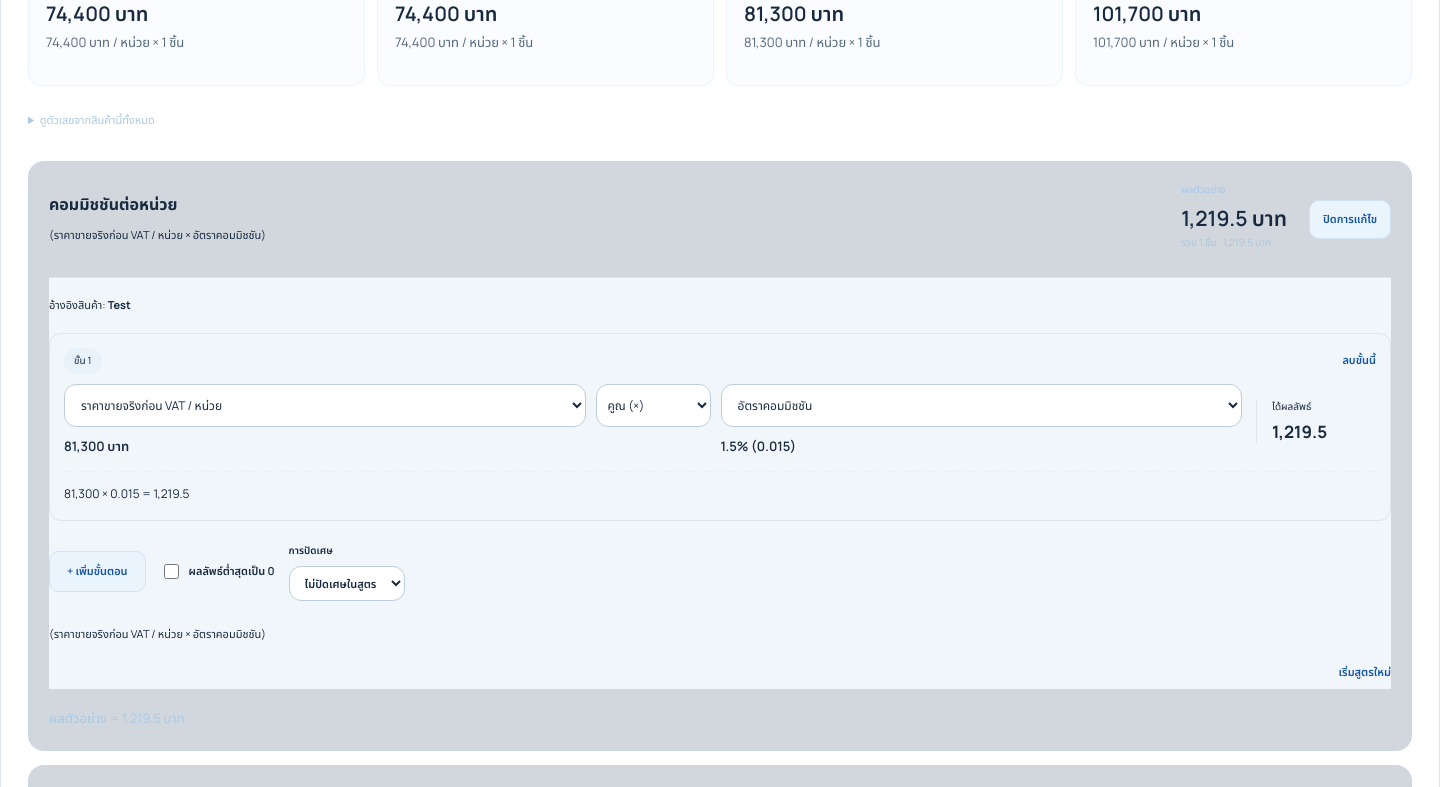
Scenario: operators and literal values are selectable and divide by zero blocks saving
(page scrolled)
Select "หาร (÷)" in the dropdown with test id "node-commission_amount-root-operation" at (653, 405), box [596,384,710,427]
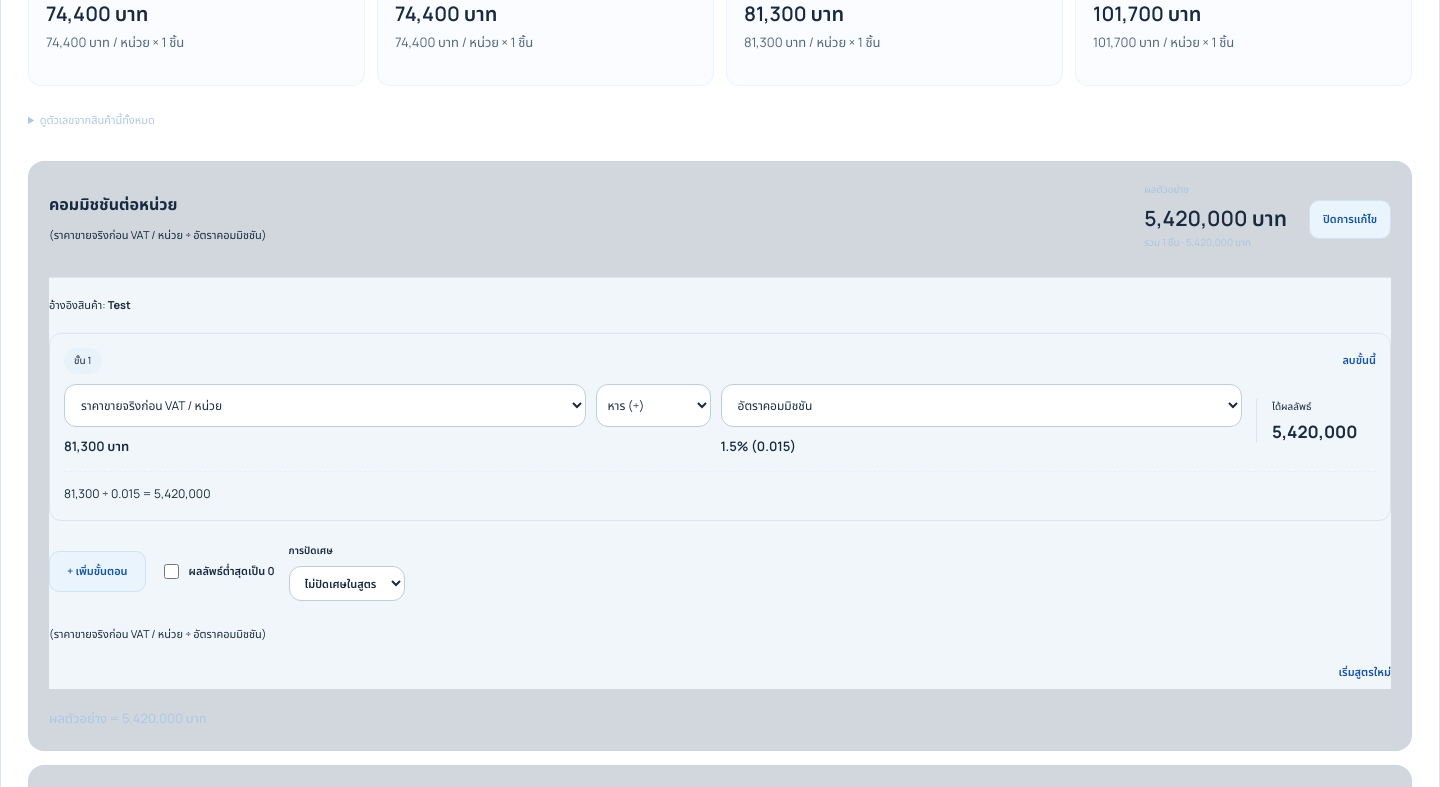
Select "ตัวเลขที่กำหนดเอง" in the dropdown with test id "node-commission_amount-root-1-source" at (981, 405), box [720,384,1242,427]
(page scrolled)
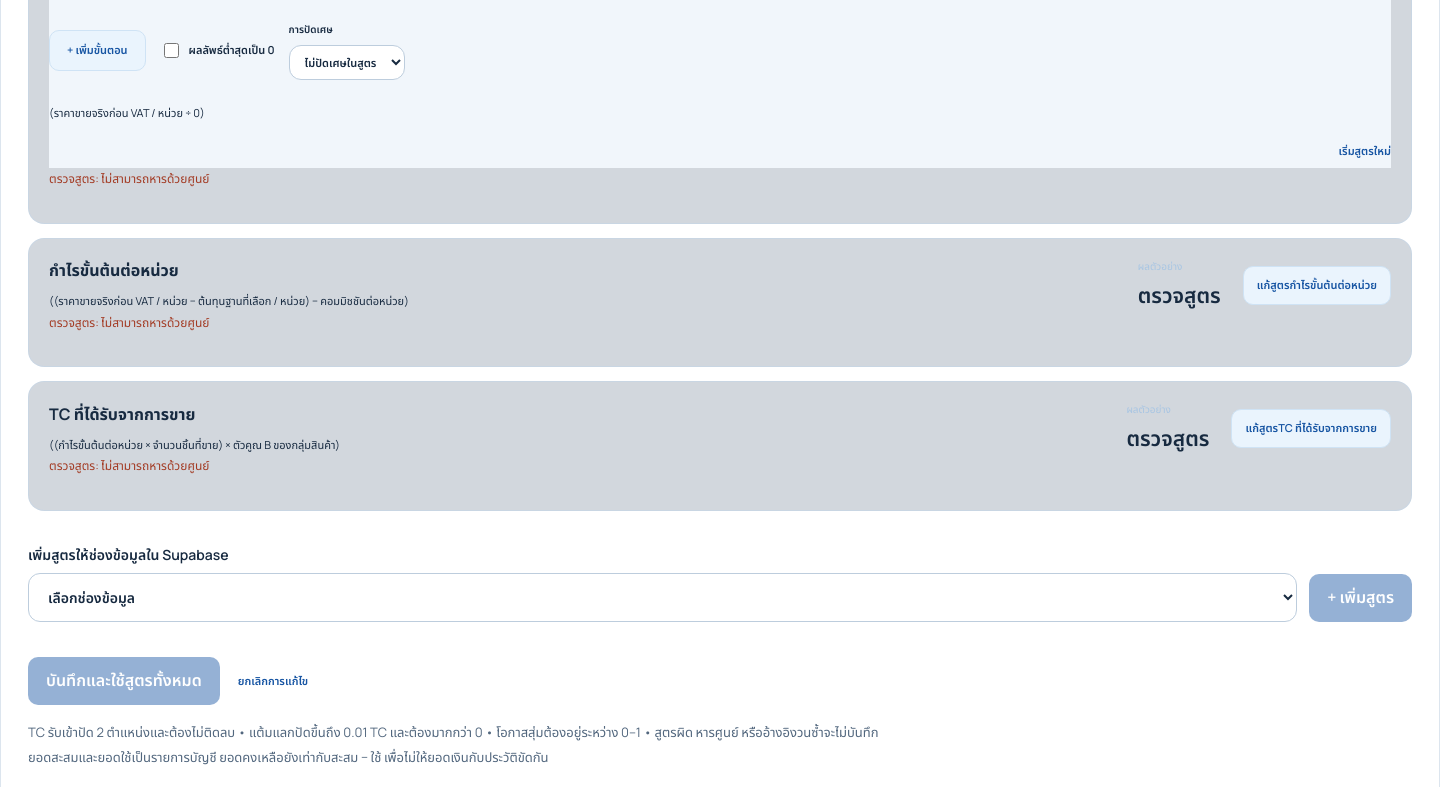
Check: the text "ตรวจสูตร: ไม่สามารถหารด้วยศูนย์" below "ผลลัพธ์ต่ำสุดเป็น 0" is shown, box [49,170,209,187]
Check: the button "บันทึกและใช้สูตรทั้งหมด" is disabled, box [28,657,220,705]
